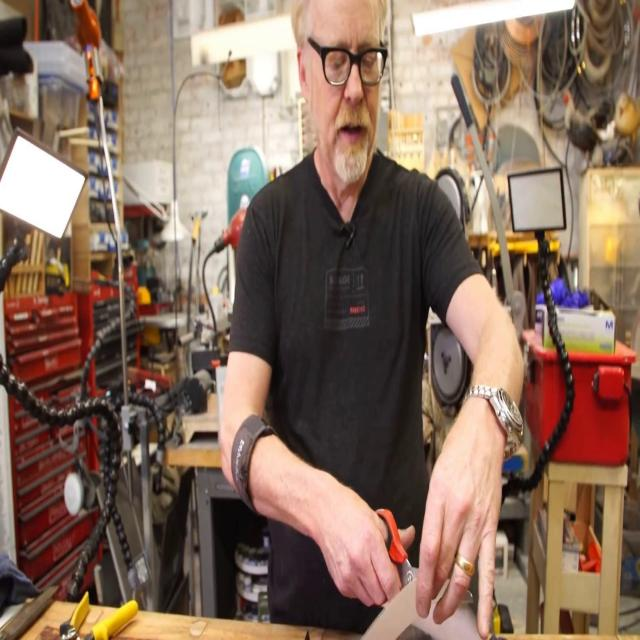scissor: (375, 508, 474, 602)
